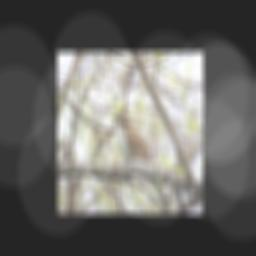Cuckoo: (113, 116, 173, 214)
